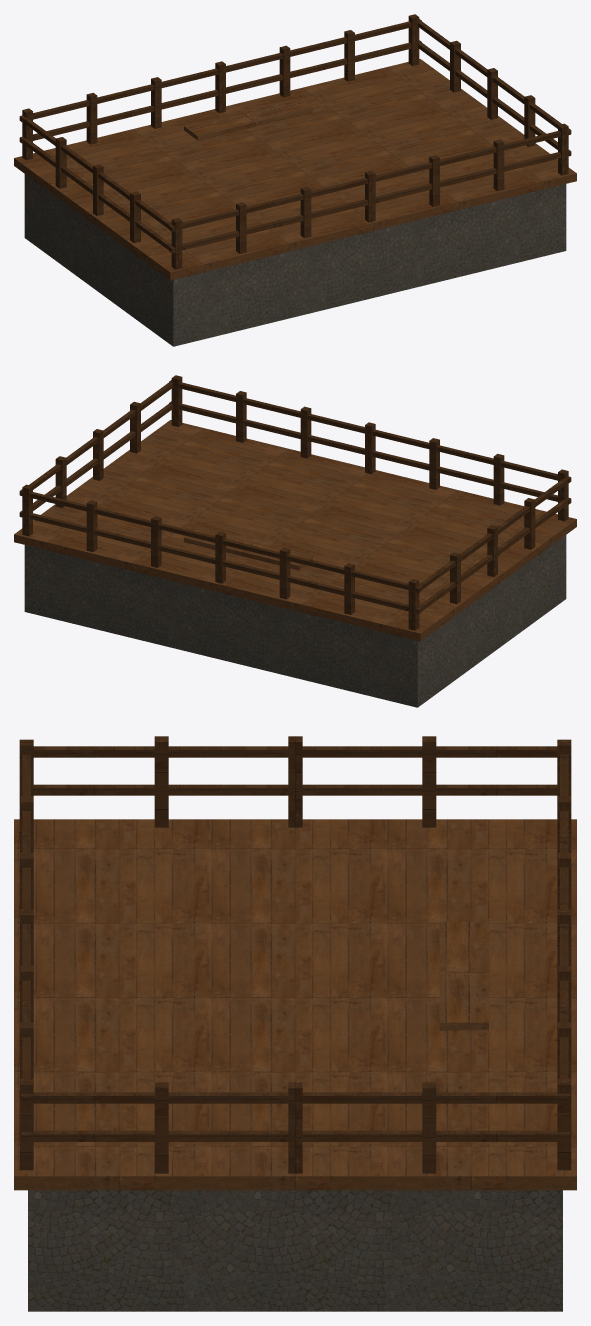
Rendered from overlook.gltf.
3 views of the same model, one above another, from view 1: azimuth 30°, elevation 25°; view 2: azimuth 150°, elevation 25°; view 3: azimuth 270°, elevation 25° (orthographic). The views are drawn at different scales.
Visible parts, largest first — view 1: StarfallOverlook; view 2: StarfallOverlook; view 3: StarfallOverlook.
Boxes of the visible parts, x1,y1,x2,y2 form: StarfallOverlook: [14, 14, 576, 346]; StarfallOverlook: [14, 375, 576, 707]; StarfallOverlook: [14, 736, 576, 1311].
Bounding box in the file's own units: 12 × 3.56 × 8.
Materials: 3 (3 with a texture image).
